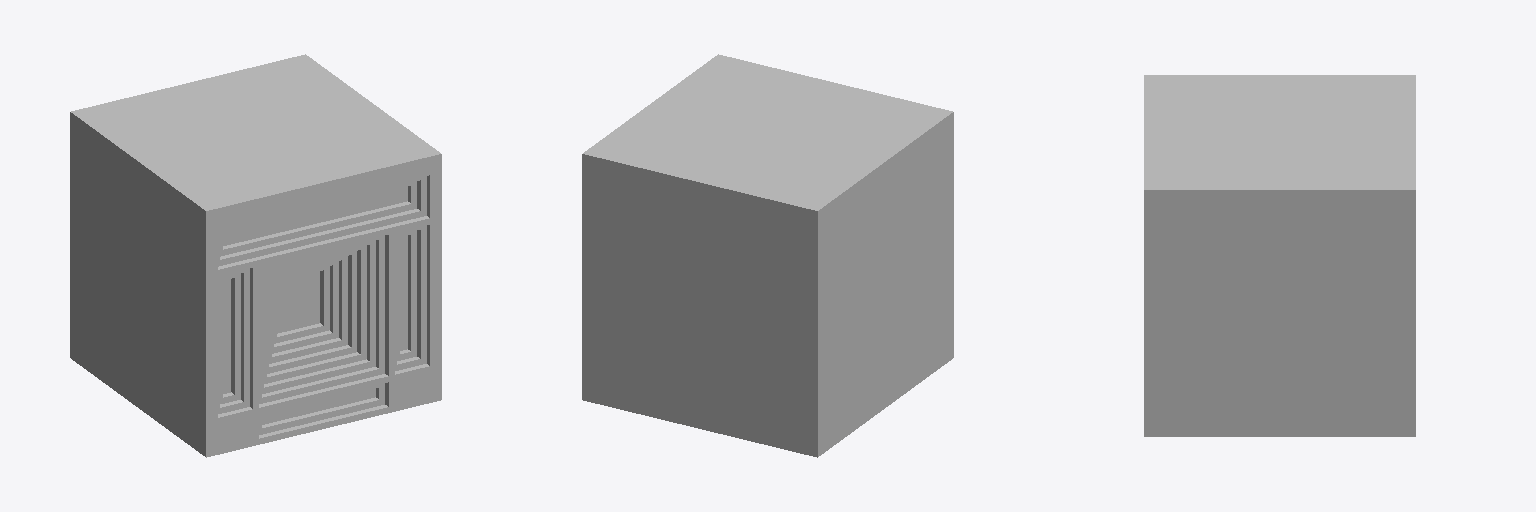
Rendered from player2.obj.
The picture shows the model from 3 angles: view 1: azimuth 30°, elevation 25°; view 2: azimuth 150°, elevation 25°; view 3: azimuth 270°, elevation 25°; orthographic projection.
Parts seen in each view (by area): view 1: object 1; view 2: object 1; view 3: object 1.
Boxes of the visible parts, <box> form: object 1: <box>70,54,441,457</box>; object 1: <box>582,54,953,457</box>; object 1: <box>1144,75,1415,436</box>.
Size of the model in its own units: 4 by 4 by 4.